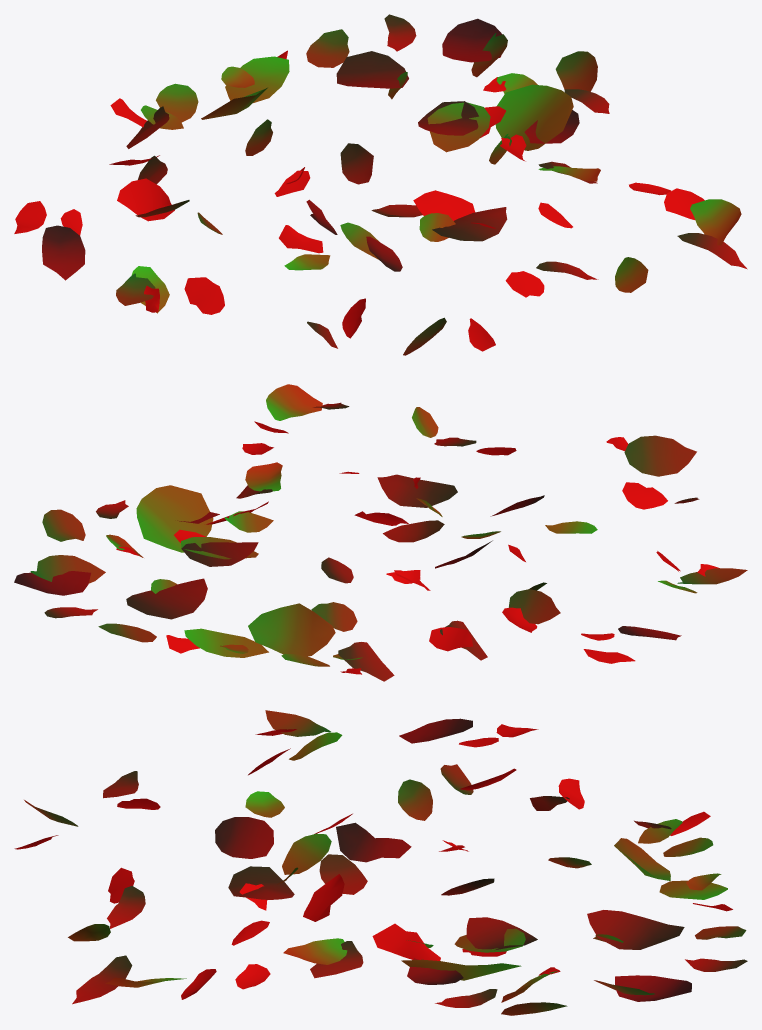
Rendered from Var2_LOD0.fbx.
3 views of the same model, one above another, from view 1: azimuth 30°, elevation 25°; view 2: azimuth 150°, elevation 25°; view 3: azimuth 270°, elevation 25° (orthographic). The views are drawn at different scales.
Visible parts, largest first — view 1: _452a_Var2_LOD0; view 2: _452a_Var2_LOD0; view 3: _452a_Var2_LOD0.
Part boxes in pixels (box(x1,y1,x2,y2)): _452a_Var2_LOD0: box(14, 14, 747, 355); _452a_Var2_LOD0: box(14, 384, 747, 681); _452a_Var2_LOD0: box(14, 710, 747, 1015).
Bounding box in the file's own units: 77.03 × 5.85 × 78.4.
